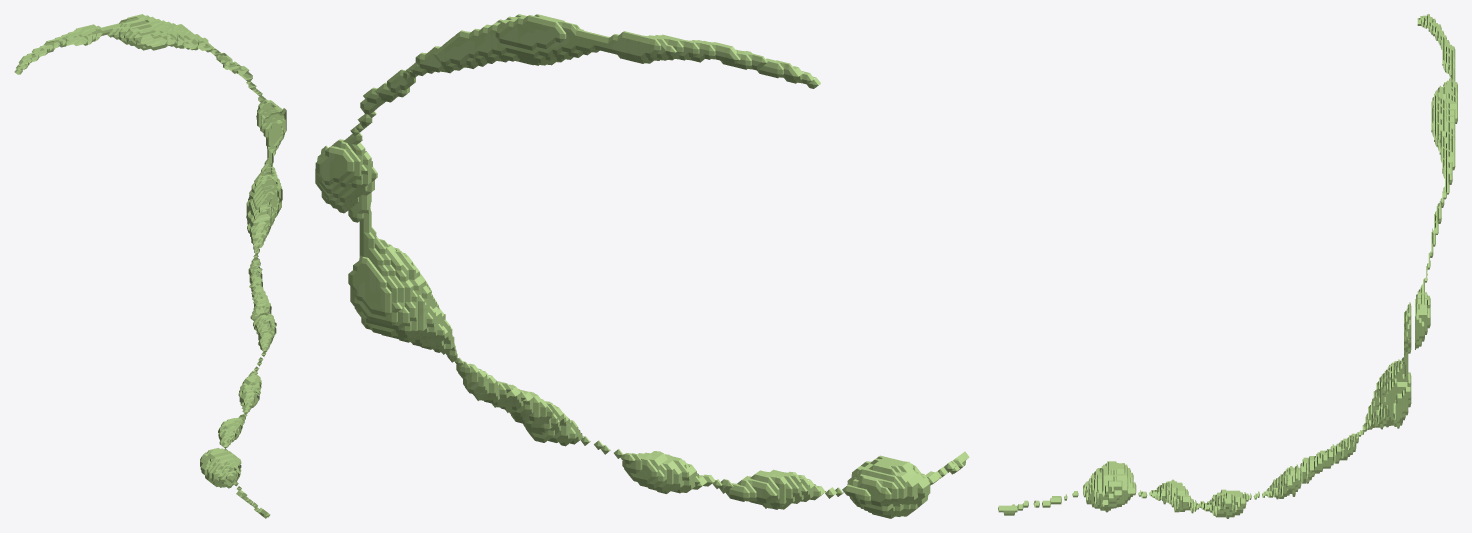
Rendered from SVV_PVPR.gltf.
The picture shows the model from 3 angles, left to right: view 1: azimuth 30°, elevation 25°; view 2: azimuth 150°, elevation 25°; view 3: azimuth 270°, elevation 25°; orthographic projection. The views are drawn at different scales.
Parts seen in each view (by area): view 1: PVPR; view 2: PVPR; view 3: PVPR.
Boxes of the visible parts, box(x1,y1,x2,y2) form: PVPR: box(14, 14, 286, 518); PVPR: box(315, 14, 969, 518); PVPR: box(998, 14, 1457, 518).
Size of the model in its own units: 55307 by 71203 by 64281.
